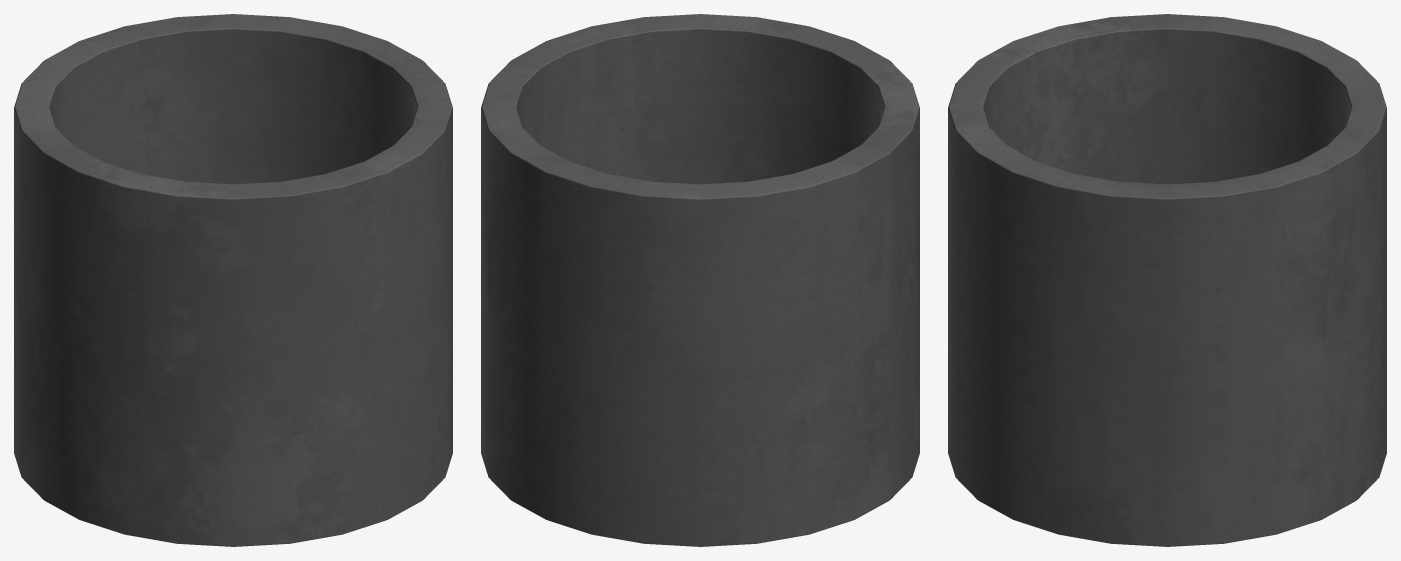
File: Blocks_01.fbx
3 views of the same model, side by side, from view 1: azimuth 30°, elevation 25°; view 2: azimuth 150°, elevation 25°; view 3: azimuth 270°, elevation 25° (orthographic).
Visible parts, largest first — view 1: Blocks_01; view 2: Blocks_01; view 3: Blocks_01.
Part boxes in pixels (<box>): Blocks_01: <box>14,14,452,546</box>; Blocks_01: <box>481,14,919,546</box>; Blocks_01: <box>948,14,1386,546</box>.
Bounding box in the file's own units: 181 × 159 × 181.
